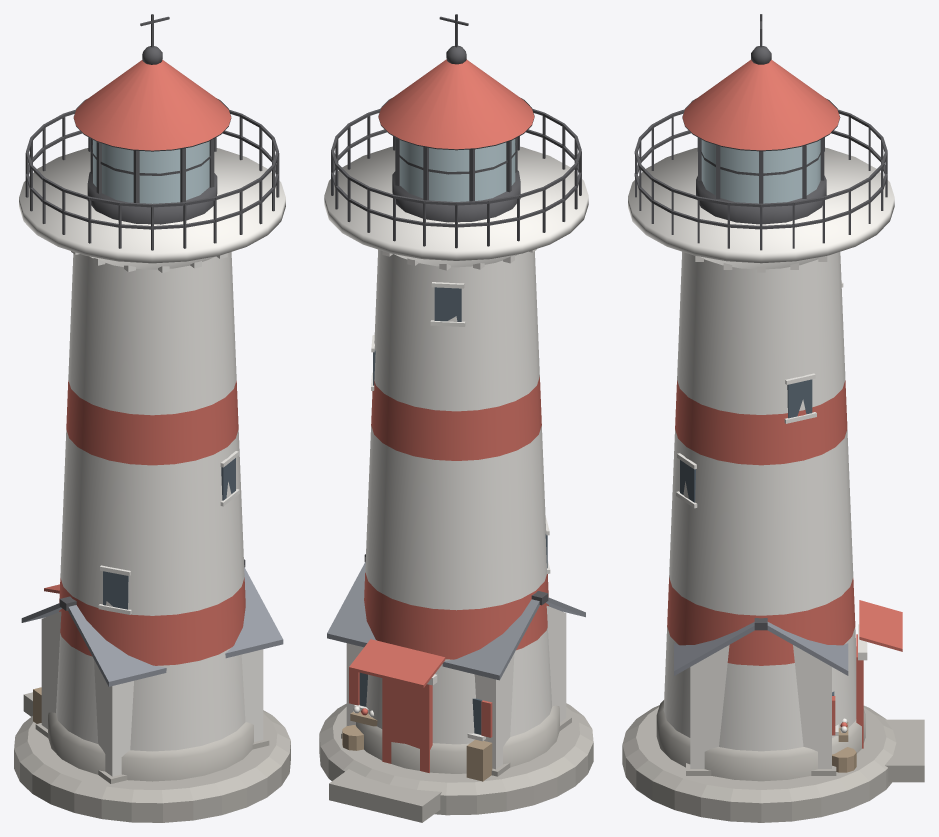
File: lighthouse.glb
3 views of the same model, side by side, from view 1: azimuth 30°, elevation 25°; view 2: azimuth 150°, elevation 25°; view 3: azimuth 270°, elevation 25° (orthographic).
Parts seen in each view (by area): view 1: li_lighthouse_mesh, li_cottage_mesh; view 2: li_lighthouse_mesh, li_cottage_mesh; view 3: li_lighthouse_mesh, li_cottage_mesh.
Boxes of the visible parts, left/top/right/bottom form: li_lighthouse_mesh: left=14, top=14, right=290, bottom=822; li_cottage_mesh: left=21, top=559, right=283, bottom=783; li_lighthouse_mesh: left=319, top=14, right=593, bottom=822; li_cottage_mesh: left=327, top=554, right=585, bottom=781; li_lighthouse_mesh: left=622, top=14, right=924, bottom=822; li_cottage_mesh: left=674, top=618, right=856, bottom=775.
Bounding box in the file's own units: 5.1 × 15.3 × 5.55.
